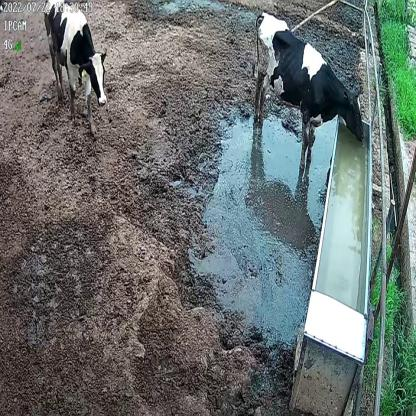cow: (252, 10, 366, 169), (44, 2, 107, 135)
